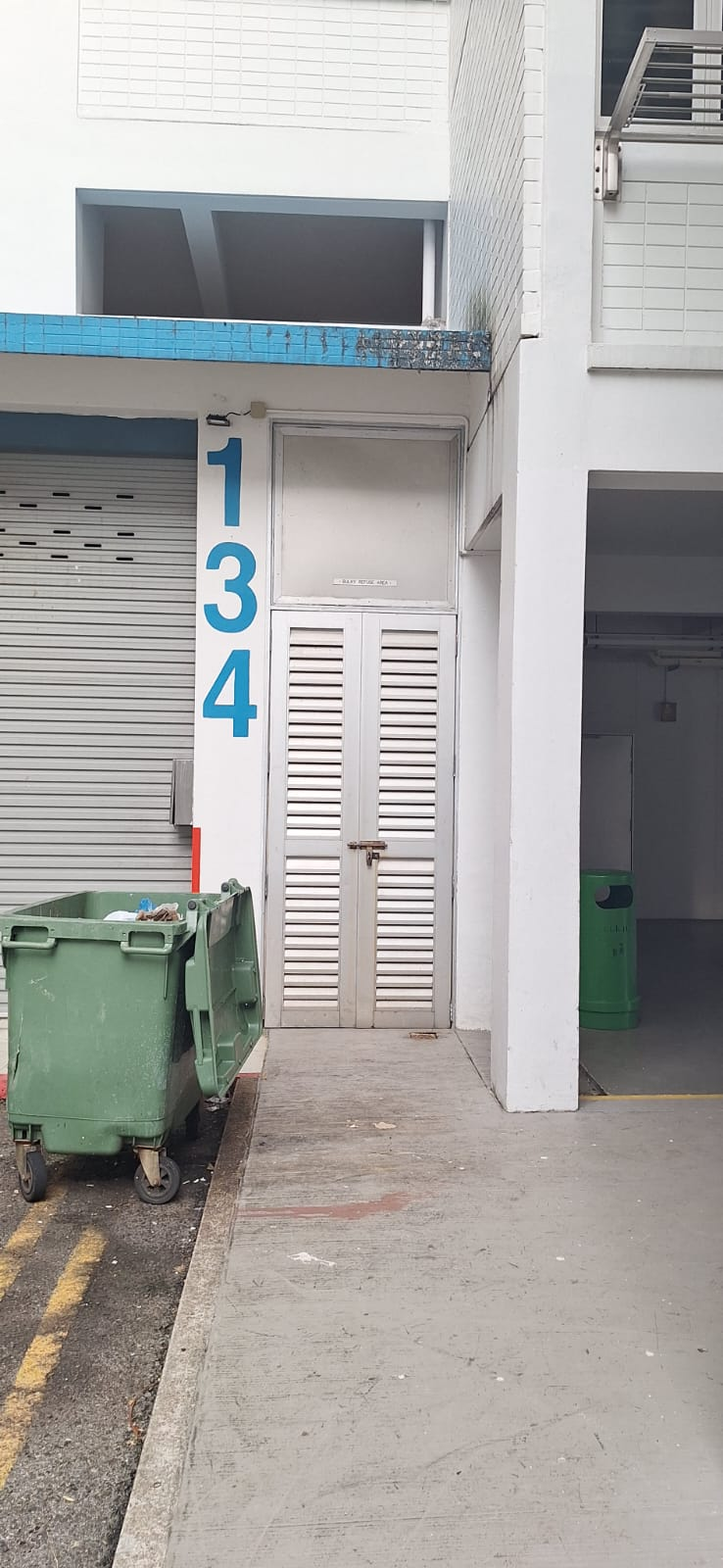bin_empty: (0, 879, 261, 1205), (580, 871, 639, 1030)
